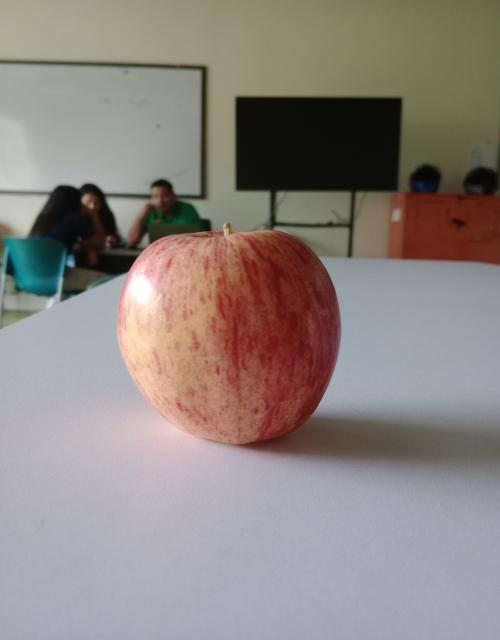Manzana: (128, 215, 372, 471)
